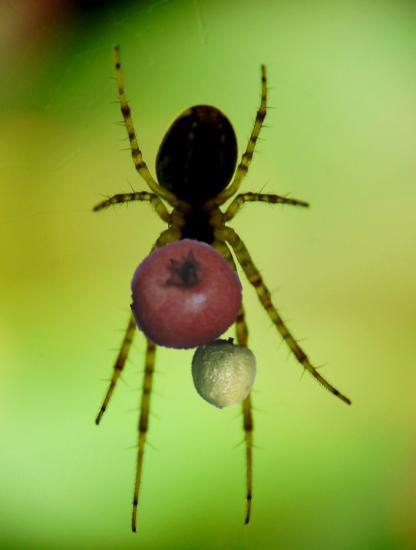Limes: (187, 337, 259, 409)
Pomegranate: (130, 239, 242, 351)
